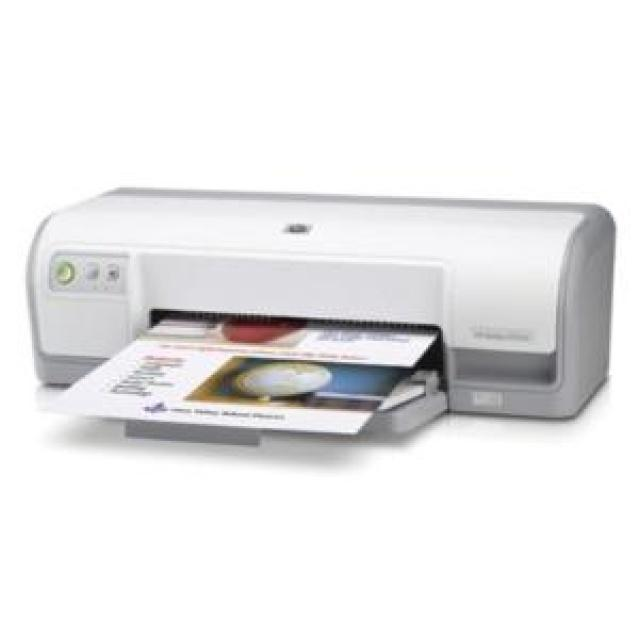Printer: (26, 186, 616, 446)
